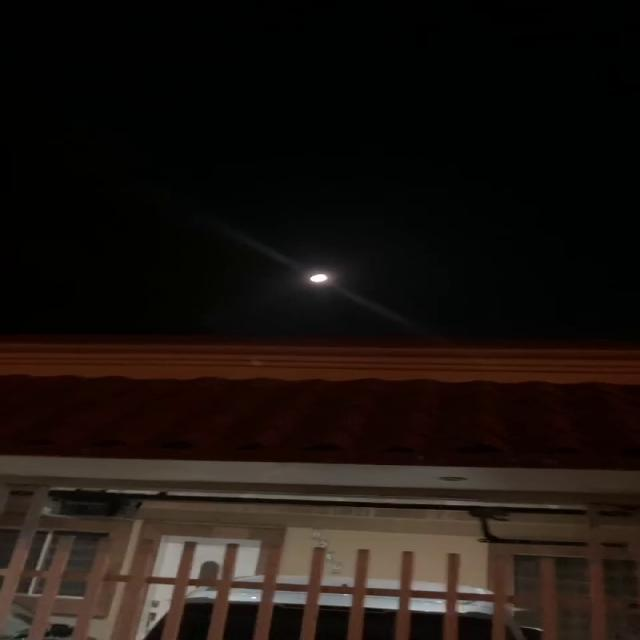moon: (301, 267, 346, 293)
